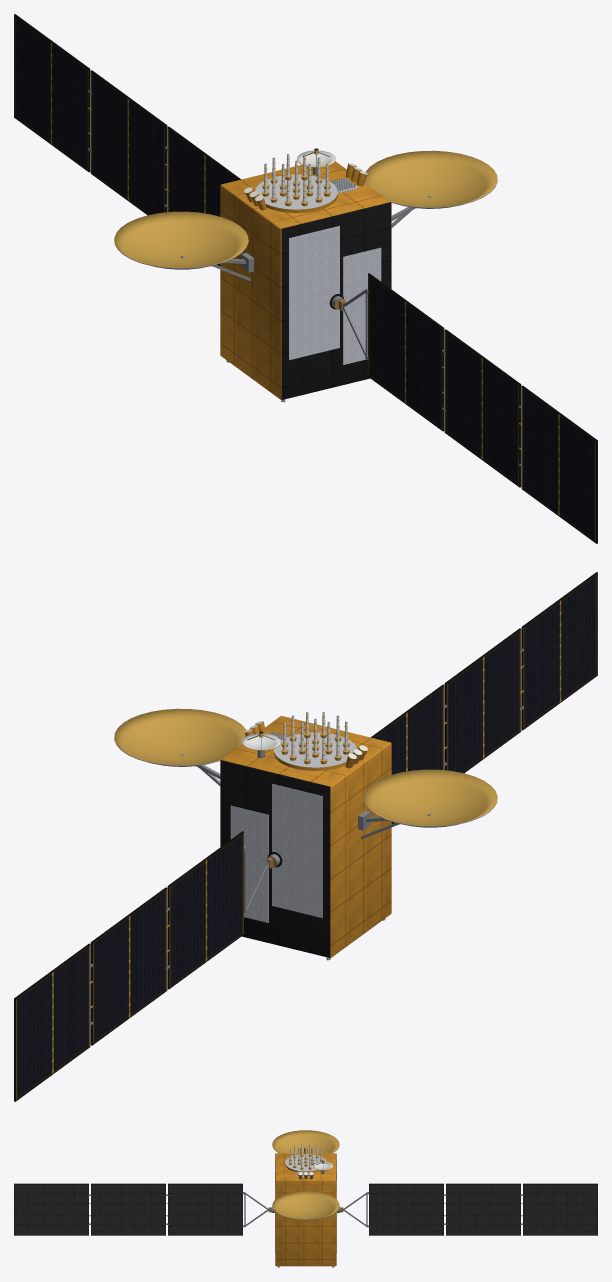
Rendered from bds3-geo.glb.
The picture shows the model from 3 angles, top to bottom: view 1: azimuth 30°, elevation 25°; view 2: azimuth 150°, elevation 25°; view 3: azimuth 270°, elevation 25°; orthographic projection. The views are drawn at different scales.
Parts seen in each view (by area): view 1: bus, wing-Y, wing+Y, rdss_mesh_reflectors, nadir_payload_deck; view 2: bus, wing+Y, wing-Y, rdss_mesh_reflectors, nadir_payload_deck; view 3: wing+Y, wing-Y, bus, rdss_mesh_reflectors, nadir_payload_deck.
Boxes of the visible parts, x1=… form: bus: x1=220, y1=161, x2=391, y2=399; wing-Y: x1=338, y1=273, x2=597, y2=543; wing+Y: x1=14, y1=14, x2=241, y2=265; rdss_mesh_reflectors: x1=114, y1=150, x2=497, y2=281; nadir_payload_deck: x1=255, y1=148, x2=358, y2=212; bus: x1=220, y1=716, x2=391, y2=957; wing+Y: x1=14, y1=831, x2=273, y2=1101; wing-Y: x1=370, y1=572, x2=597, y2=823; rdss_mesh_reflectors: x1=114, y1=708, x2=497, y2=839; nadir_payload_deck: x1=241, y1=712, x2=356, y2=770; wing+Y: x1=340, y1=1183, x2=597, y2=1235; wing-Y: x1=14, y1=1183, x2=271, y2=1235; bus: x1=275, y1=1153, x2=336, y2=1266; rdss_mesh_reflectors: x1=272, y1=1130, x2=339, y2=1220; nadir_payload_deck: x1=285, y1=1143, x2=332, y2=1177.
Bounding box in the file's own units: 6.9 × 3.95 × 19.04.
17 materials, 5 textured.
